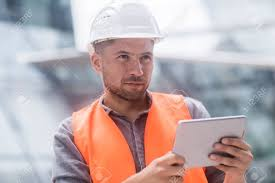Person_wearing_helmet: (85, 0, 169, 70)
